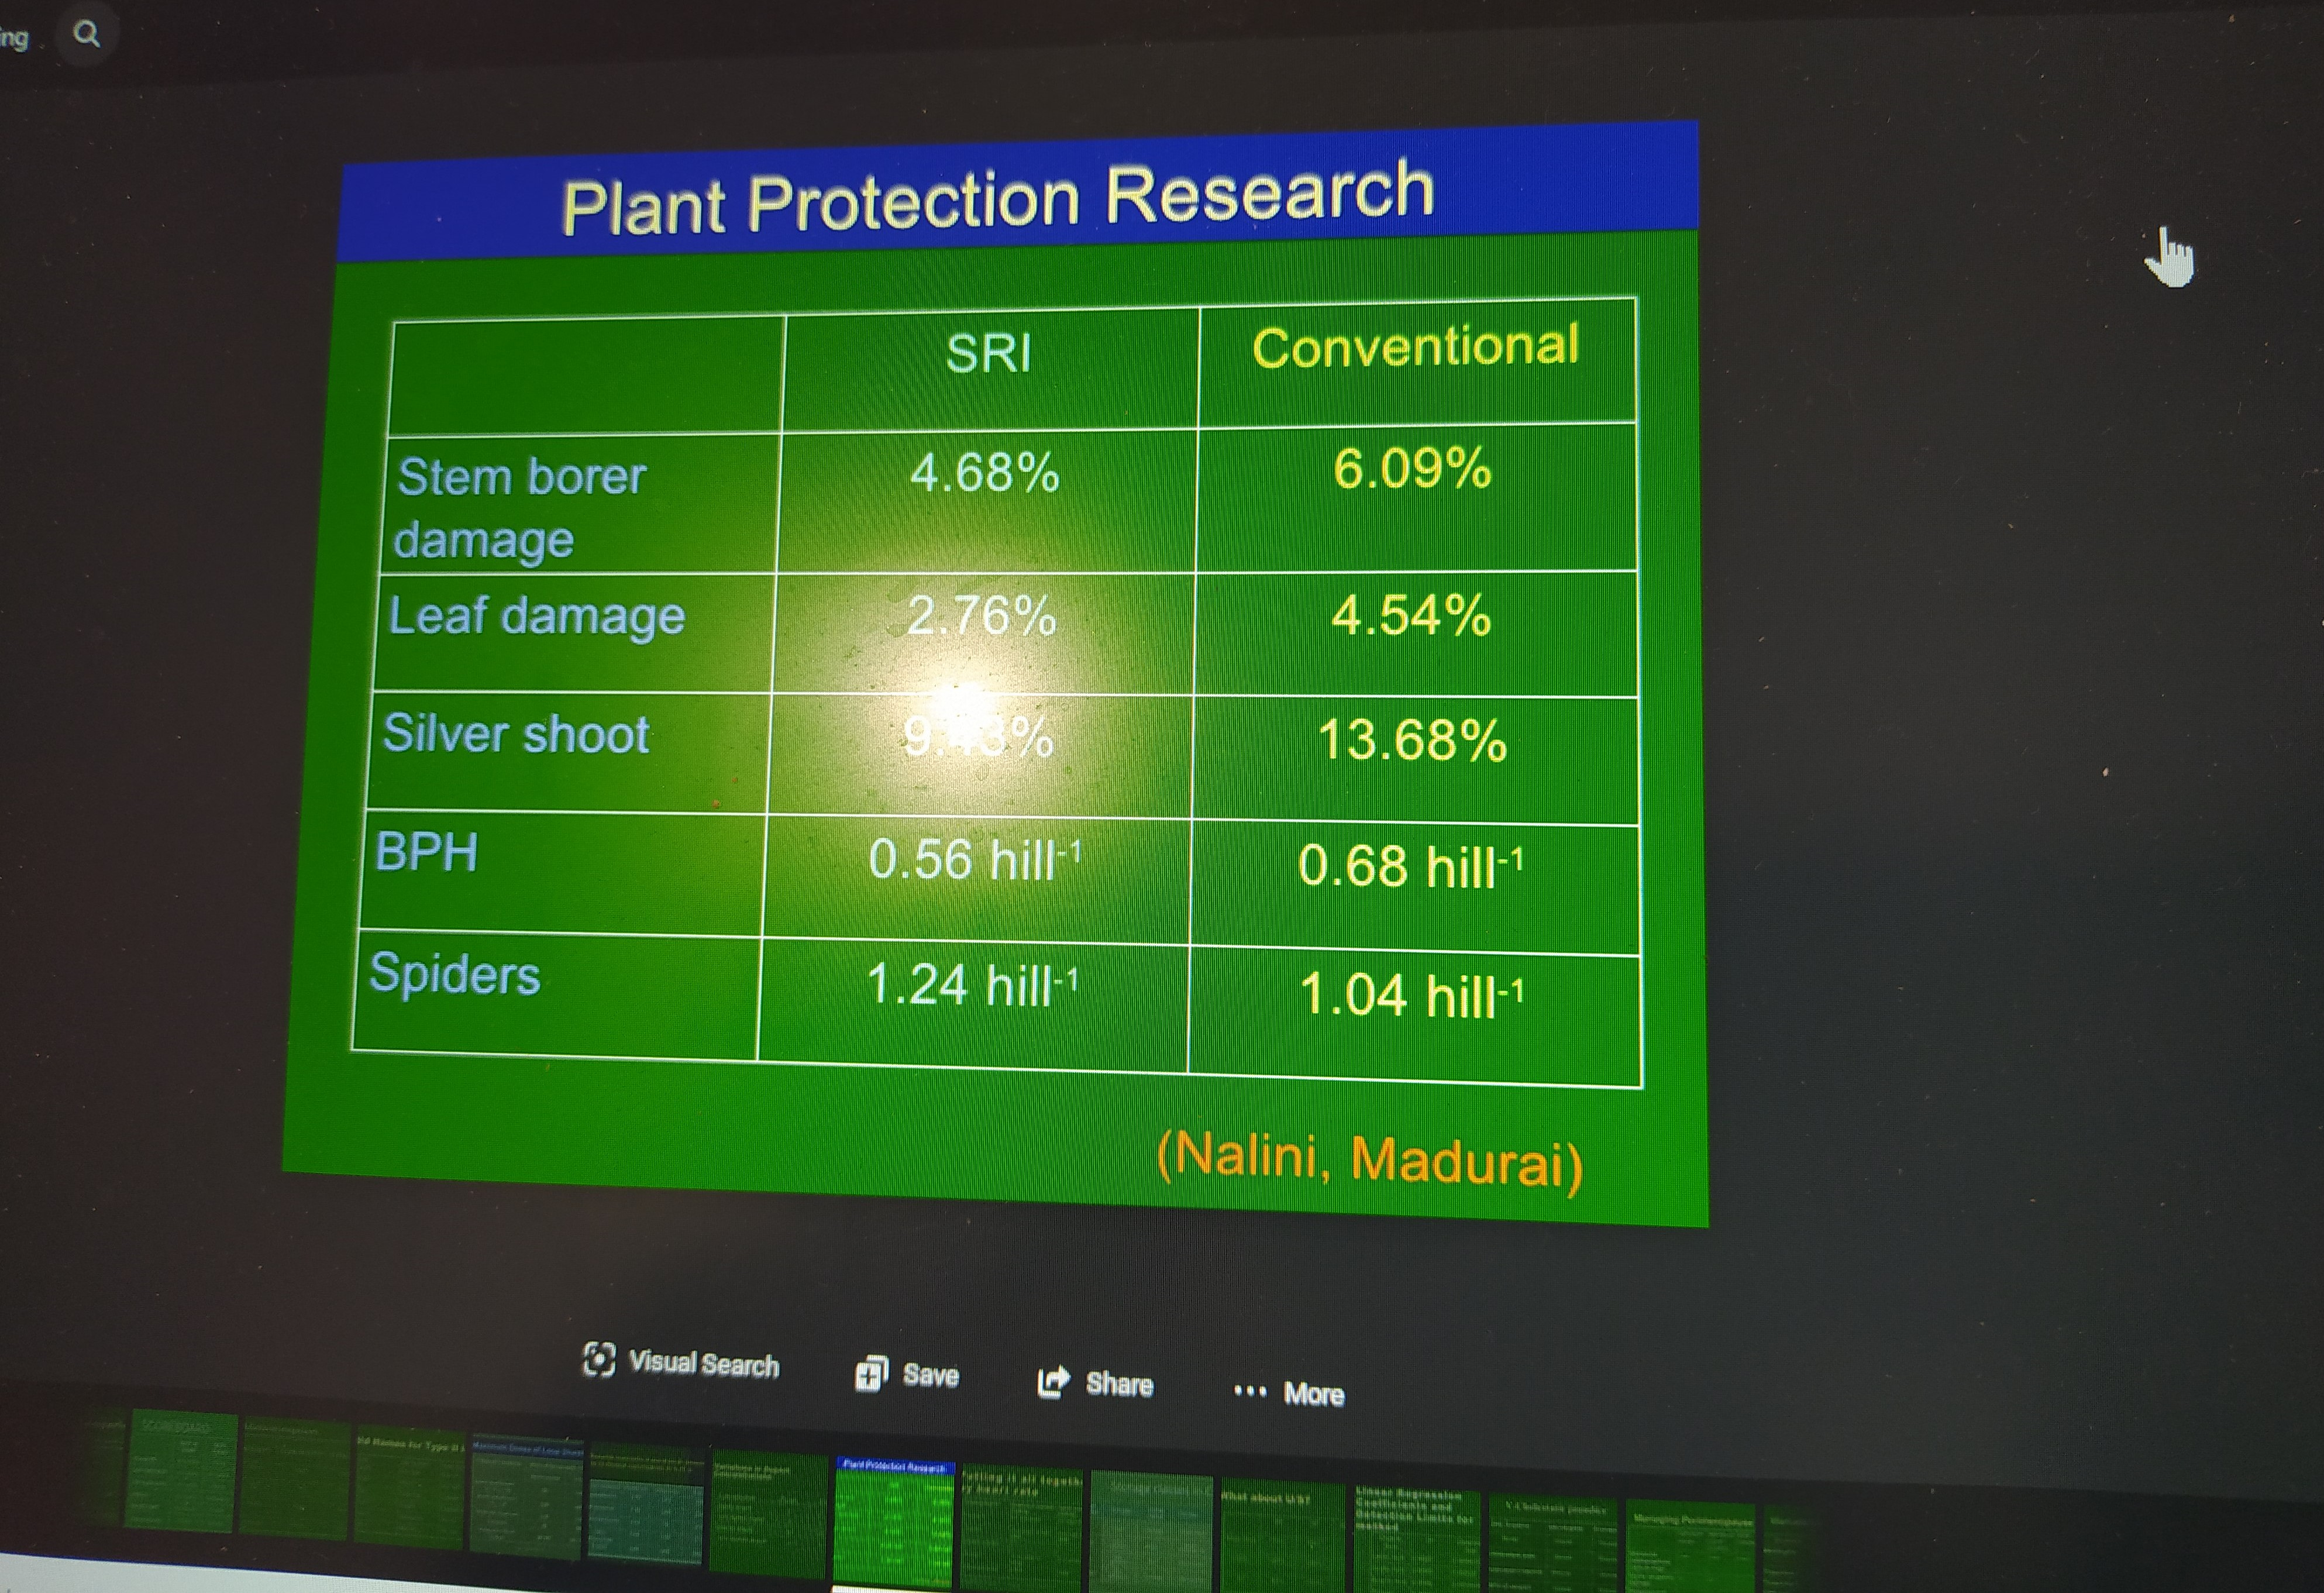.: (1333, 844, 1342, 887), (943, 452, 952, 493), (1381, 719, 1390, 759), (895, 963, 904, 1003), (1332, 973, 1340, 1014), (1367, 593, 1374, 636), (936, 713, 943, 756), (1369, 447, 1376, 487), (902, 837, 909, 878), (941, 595, 947, 634)
0: (1346, 971, 1376, 1015), (1300, 842, 1328, 887), (1381, 447, 1409, 489), (869, 837, 897, 880)
1: (1302, 971, 1321, 1014), (867, 961, 885, 1003), (1319, 719, 1337, 759), (1510, 978, 1524, 1003), (1510, 846, 1522, 871), (1067, 966, 1077, 993), (1070, 839, 1079, 864)
2: (909, 963, 938, 1005), (909, 595, 934, 636)
3: (1346, 719, 1376, 759), (978, 715, 1005, 758)
4: (947, 713, 978, 756), (1377, 973, 1407, 1017), (1332, 593, 1362, 636), (1411, 593, 1441, 636), (939, 964, 970, 1005), (909, 452, 938, 493)
5: (1379, 593, 1409, 636), (915, 837, 941, 880)
6: (1346, 844, 1376, 888), (1335, 445, 1363, 489), (1395, 719, 1425, 759), (945, 837, 973, 880), (957, 452, 982, 493), (984, 595, 1008, 636)
7: (955, 593, 980, 636)
8: (1377, 844, 1407, 888), (1427, 719, 1455, 761), (985, 450, 1012, 491)
9: (1415, 447, 1441, 487), (904, 715, 931, 756)
